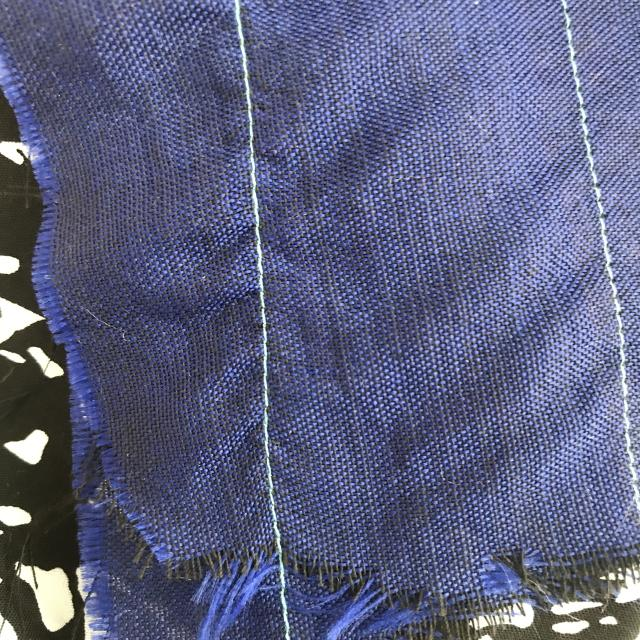good: (216, 80, 280, 352)
